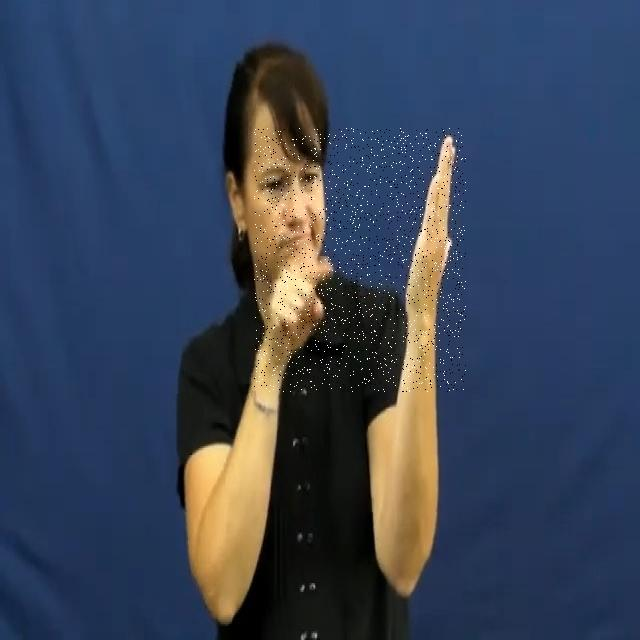menu: (254, 128, 466, 392)
